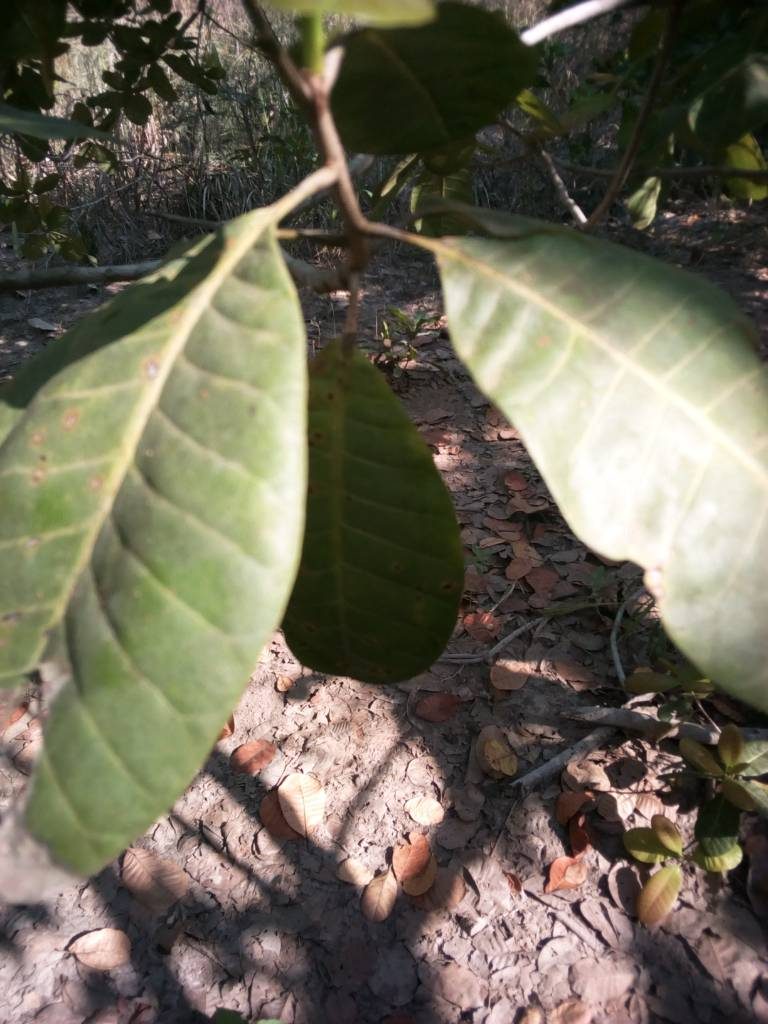Anoplonemis curvipes: (1, 205, 377, 891)
